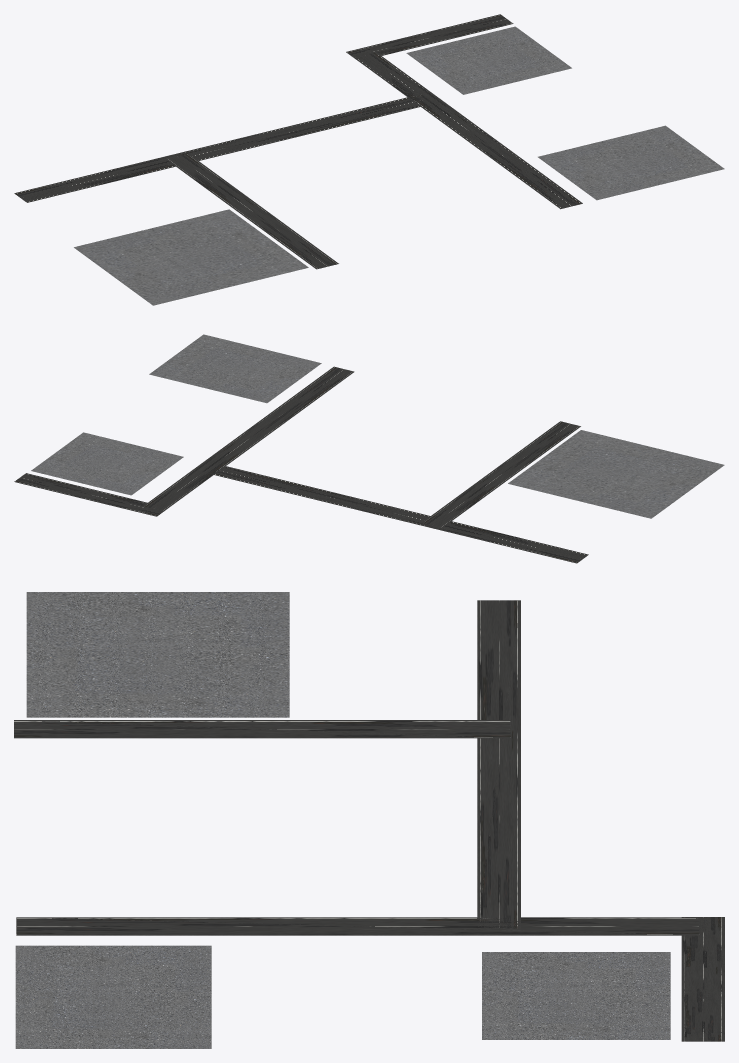
Rendered from street.glb.
The picture shows the model from 3 angles, top to bottom: view 1: azimuth 30°, elevation 25°; view 2: azimuth 150°, elevation 25°; view 3: azimuth 270°, elevation 25°; orthographic projection. The views are drawn at different scales.
Visible parts, largest first — view 1: Plane_Material.001_0.006, Plane.006_Material.007_0.003, Plane.006_Material.007_0.005, Plane.006_Material.007_0.004; view 2: Plane_Material.001_0.006, Plane.006_Material.007_0.003, Plane.006_Material.007_0.005, Plane.006_Material.007_0.004; view 3: Plane_Material.001_0.006, Plane.006_Material.007_0.003, Plane.006_Material.007_0.005, Plane.006_Material.007_0.004.
Boxes of the visible parts, x1=… form: Plane_Material.001_0.006: x1=14, y1=14, x2=582, y2=269; Plane.006_Material.007_0.003: x1=74, y1=209, x2=308, y2=305; Plane.006_Material.007_0.005: x1=538, y1=125, x2=724, y2=200; Plane.006_Material.007_0.004: x1=406, y1=26, x2=571, y2=94; Plane_Material.001_0.006: x1=14, y1=366, x2=588, y2=563; Plane.006_Material.007_0.003: x1=508, y1=430, x2=724, y2=518; Plane.006_Material.007_0.005: x1=149, y1=334, x2=321, y2=403; Plane.006_Material.007_0.004: x1=31, y1=432, x2=183, y2=495; Plane_Material.001_0.006: x1=14, y1=600, x2=724, y2=1041; Plane.006_Material.007_0.003: x1=26, y1=592, x2=289, y2=717; Plane.006_Material.007_0.005: x1=15, y1=945, x2=211, y2=1048; Plane.006_Material.007_0.004: x1=482, y1=952, x2=670, y2=1039.
Size of the model in its own units: 14.91 by 0.01 by 9.79.
Materials: 7 (7 with a texture image).
